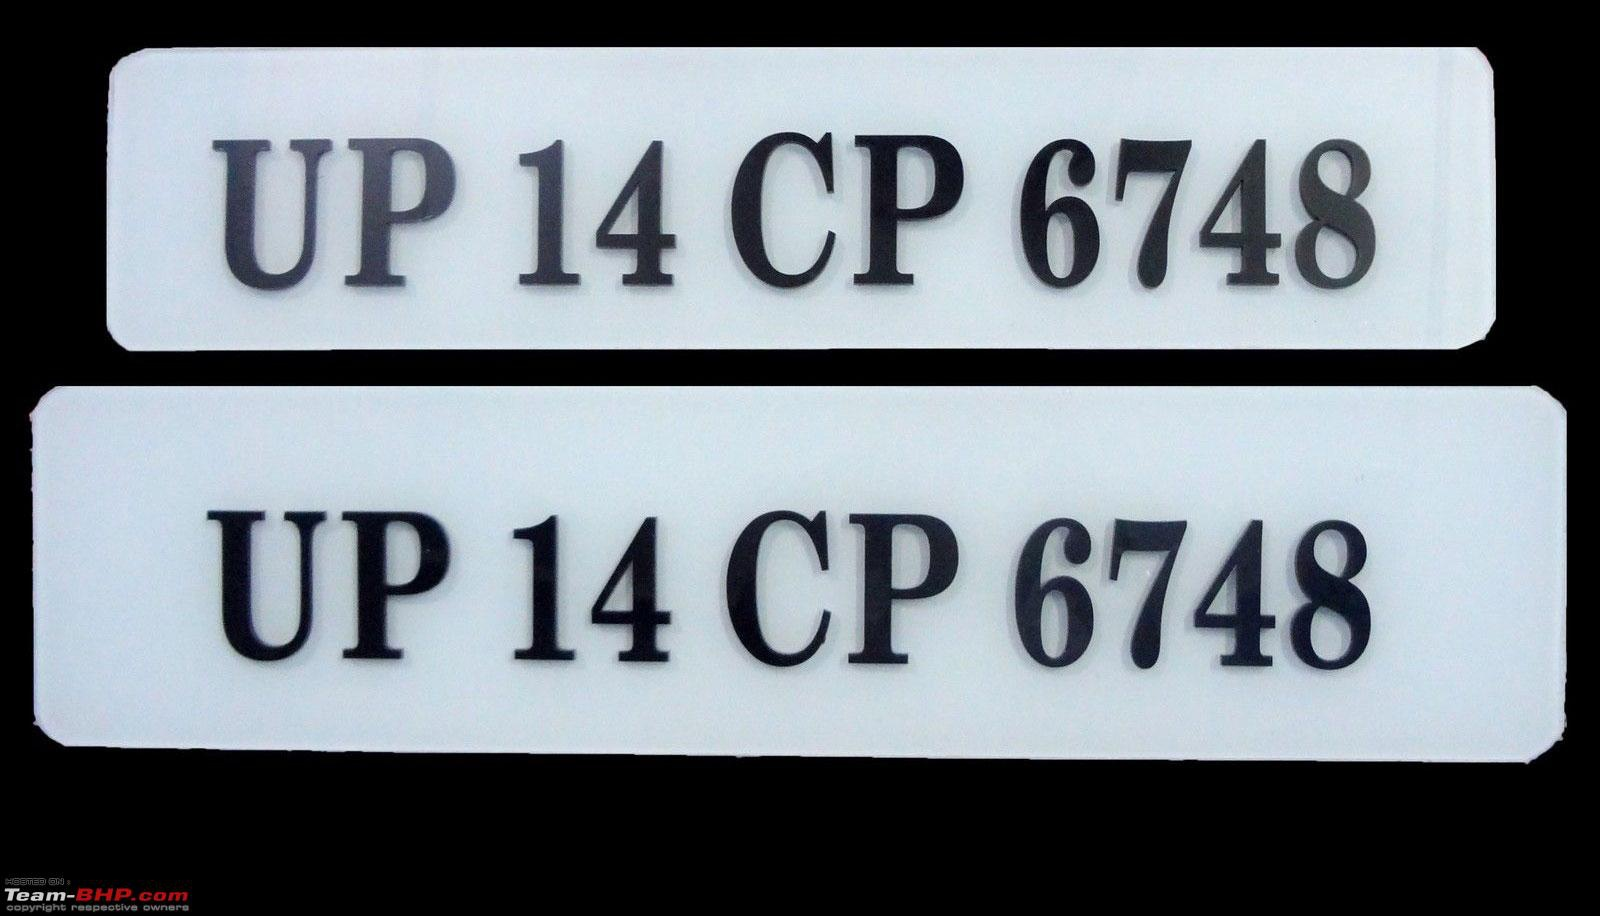plate: (121, 43, 1495, 337)
